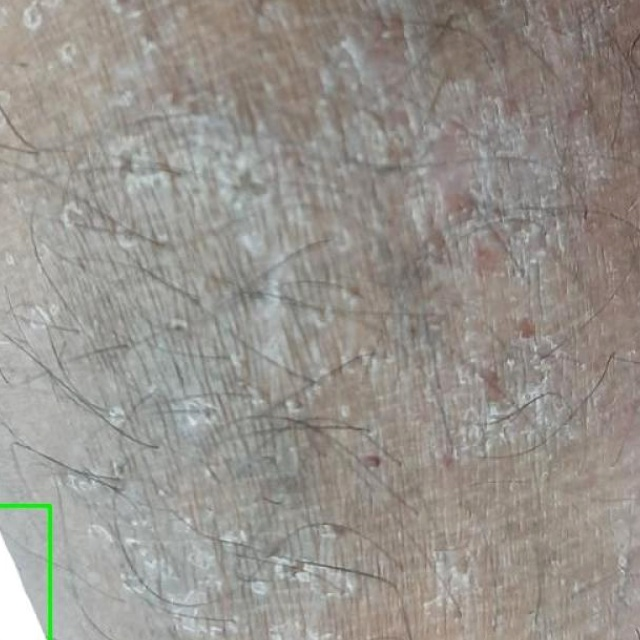Contact Dermatitis: (0, 504, 50, 639)
